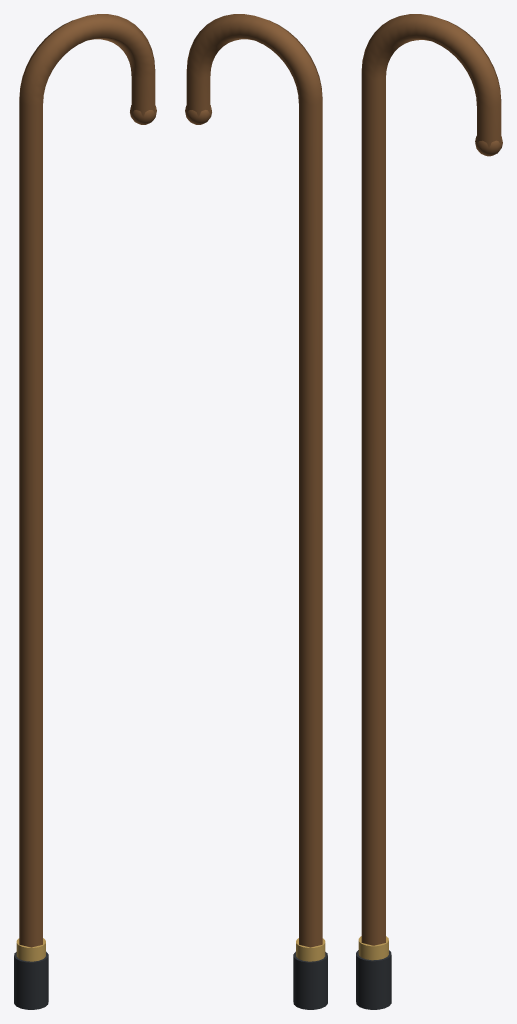
File: cane_curved_handle.glb
The picture shows the model from 3 angles, left to right: view 1: azimuth 30°, elevation 25°; view 2: azimuth 150°, elevation 25°; view 3: azimuth 330°, elevation 25°; orthographic projection. The views are drawn at different scales.
Visible parts, largest first — view 1: CrookCane_Continuous_Wood_Shaft, CrookCane_Rubber_Ferrule, CrookCane_Brass_Ring; view 2: CrookCane_Continuous_Wood_Shaft, CrookCane_Rubber_Ferrule, CrookCane_Brass_Ring; view 3: CrookCane_Continuous_Wood_Shaft, CrookCane_Rubber_Ferrule, CrookCane_Brass_Ring.
Boxes of the visible parts, <box> form: CrookCane_Continuous_Wood_Shaft: <box>19,14,155,947</box>; CrookCane_Rubber_Ferrule: <box>14,951,48,1009</box>; CrookCane_Brass_Ring: <box>16,938,45,961</box>; CrookCane_Continuous_Wood_Shaft: <box>186,14,322,947</box>; CrookCane_Rubber_Ferrule: <box>293,951,327,1009</box>; CrookCane_Brass_Ring: <box>296,938,325,961</box>; CrookCane_Continuous_Wood_Shaft: <box>361,14,501,945</box>; CrookCane_Rubber_Ferrule: <box>356,950,391,1009</box>; CrookCane_Brass_Ring: <box>358,936,388,960</box>.
Bounding box in the file's own units: 0.129 × 0.863 × 0.028.
